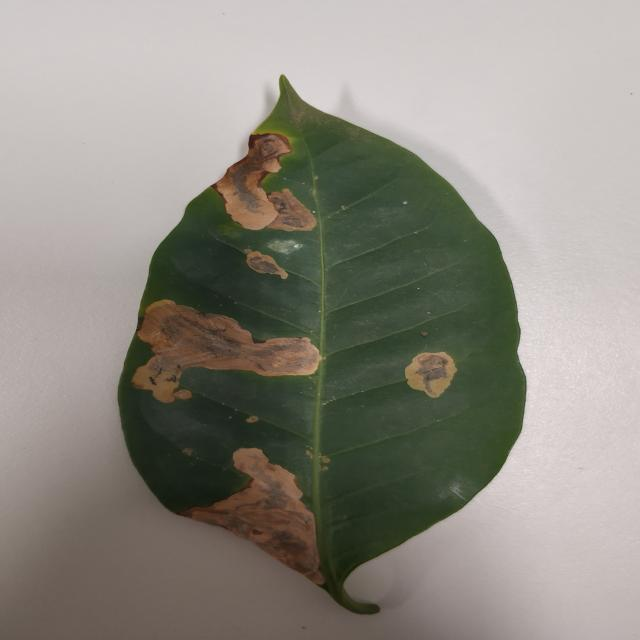Plaga-Minador: (117, 76, 528, 617)
